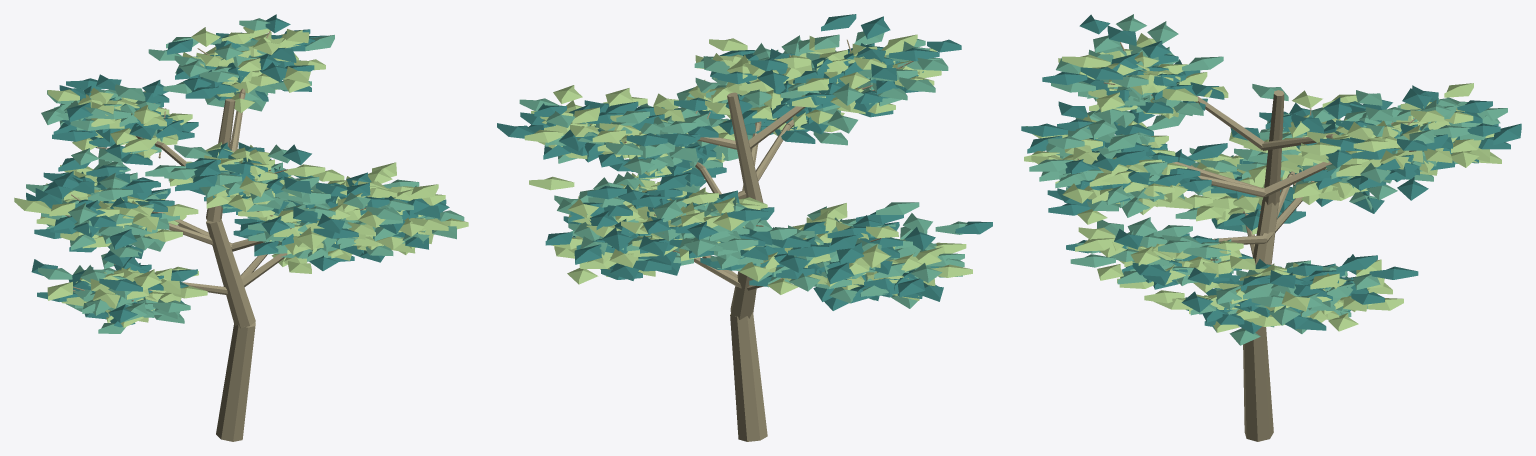
Rendered from reference-public_models_vegetation_scholar-tree.glb.
3 views of the same model, side by side, from view 1: azimuth 30°, elevation 25°; view 2: azimuth 150°, elevation 25°; view 3: azimuth 270°, elevation 25° (orthographic). The views are drawn at different scales.
Parts seen in each view (by area): view 1: Sunwen_scholar-tree; view 2: Sunwen_scholar-tree; view 3: Sunwen_scholar-tree.
Boxes of the visible parts, left/top/right/bottom form: Sunwen_scholar-tree: left=14, top=14, right=468, bottom=441; Sunwen_scholar-tree: left=497, top=14, right=992, bottom=441; Sunwen_scholar-tree: left=1021, top=14, right=1521, bottom=441.
Bounding box in the file's own units: 4.78 × 4.08 × 5.1.
